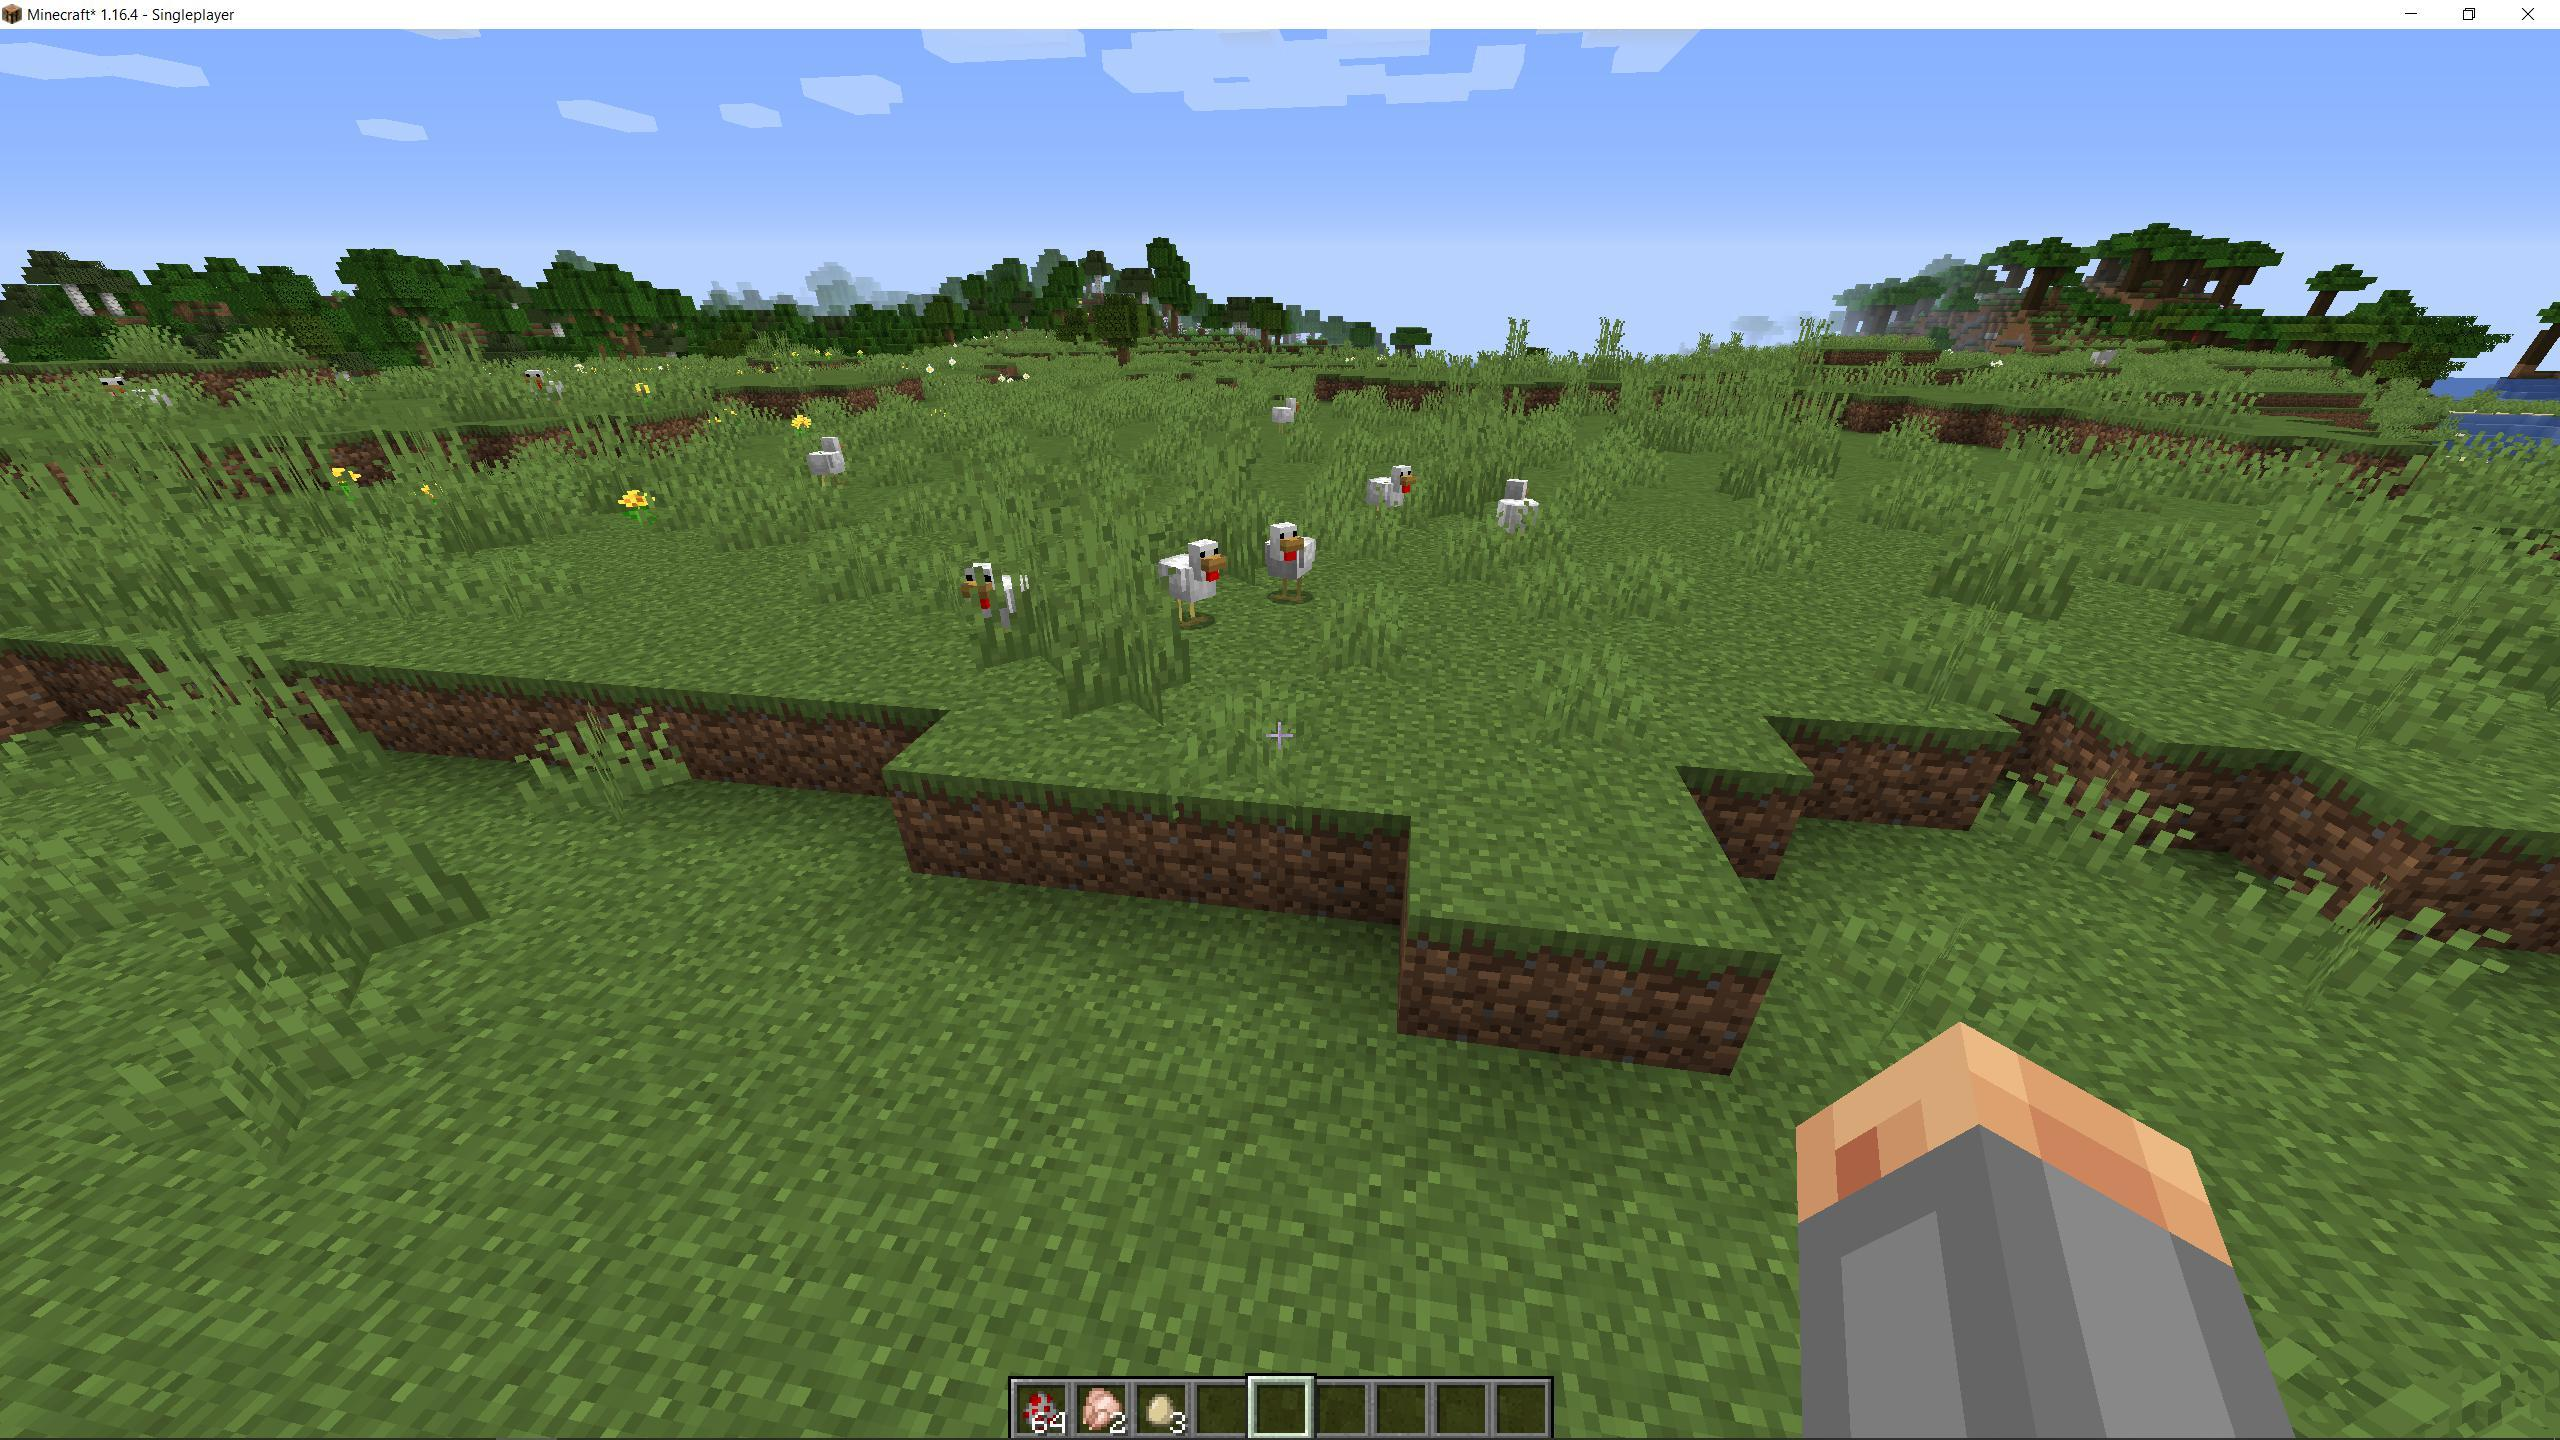chicken: (953, 559, 1041, 649), (1153, 542, 1225, 645), (91, 369, 178, 434), (1255, 519, 1315, 612), (1487, 475, 1544, 554), (1364, 462, 1417, 535), (802, 433, 853, 496), (519, 362, 575, 418), (1268, 390, 1306, 434)
